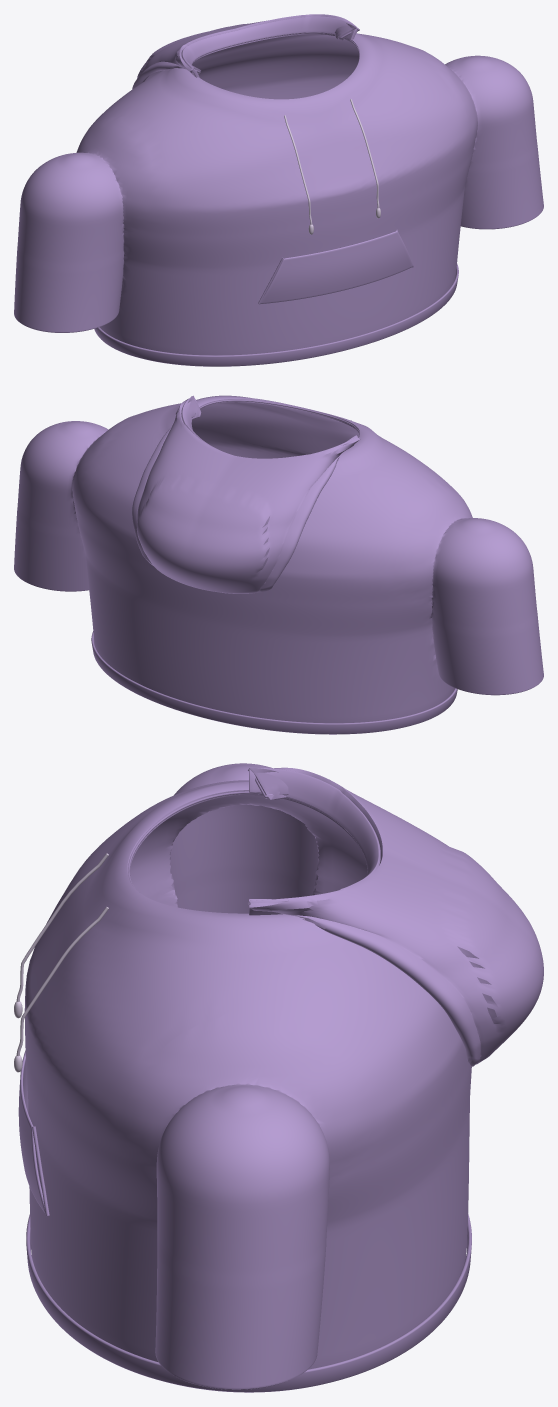
Rendered from Masculine-sweatshirt-top.glb.
3 views of the same model, one above another, from view 1: azimuth 30°, elevation 25°; view 2: azimuth 150°, elevation 25°; view 3: azimuth 270°, elevation 25° (orthographic). The views are drawn at different scales.
Visible parts, largest first — view 1: Clothing / joined sweatshirt186, Hoodie / kangaroo pocket, Hoodie / ribbed hem, Hoodie / seated rear fold187, Hoodie / resting hood; view 2: Clothing / joined sweatshirt186, Hoodie / resting hood, Hoodie / ribbed hem; view 3: Clothing / joined sweatshirt186, Hoodie / resting hood, Hoodie / ribbed hem, Hoodie / seated rear fold187, Hoodie / kangaroo pocket.
Part boxes in pixels (x1,y1,x2,y2): Clothing / joined sweatshirt186: [14, 33, 543, 355]; Hoodie / kangaroo pocket: [260, 231, 412, 304]; Hoodie / ribbed hem: [94, 263, 458, 366]; Hoodie / seated rear fold187: [181, 16, 358, 77]; Hoodie / resting hood: [132, 14, 359, 89]; Clothing / joined sweatshirt186: [14, 395, 543, 723]; Hoodie / resting hood: [132, 395, 359, 593]; Hoodie / ribbed hem: [91, 631, 457, 734]; Clothing / joined sweatshirt186: [24, 763, 471, 1389]; Hoodie / resting hood: [249, 767, 543, 1066]; Hoodie / ribbed hem: [26, 1213, 471, 1392]; Hoodie / seated rear fold187: [249, 768, 380, 915]; Hoodie / kangaroo pocket: [18, 1050, 45, 1213].
Size of the model in its own units: 1.03 by 0.4903 by 0.5538.
